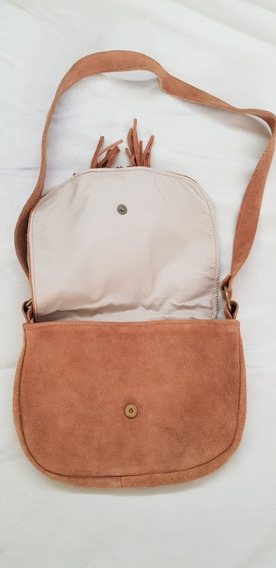cartera: (13, 165, 248, 491)
